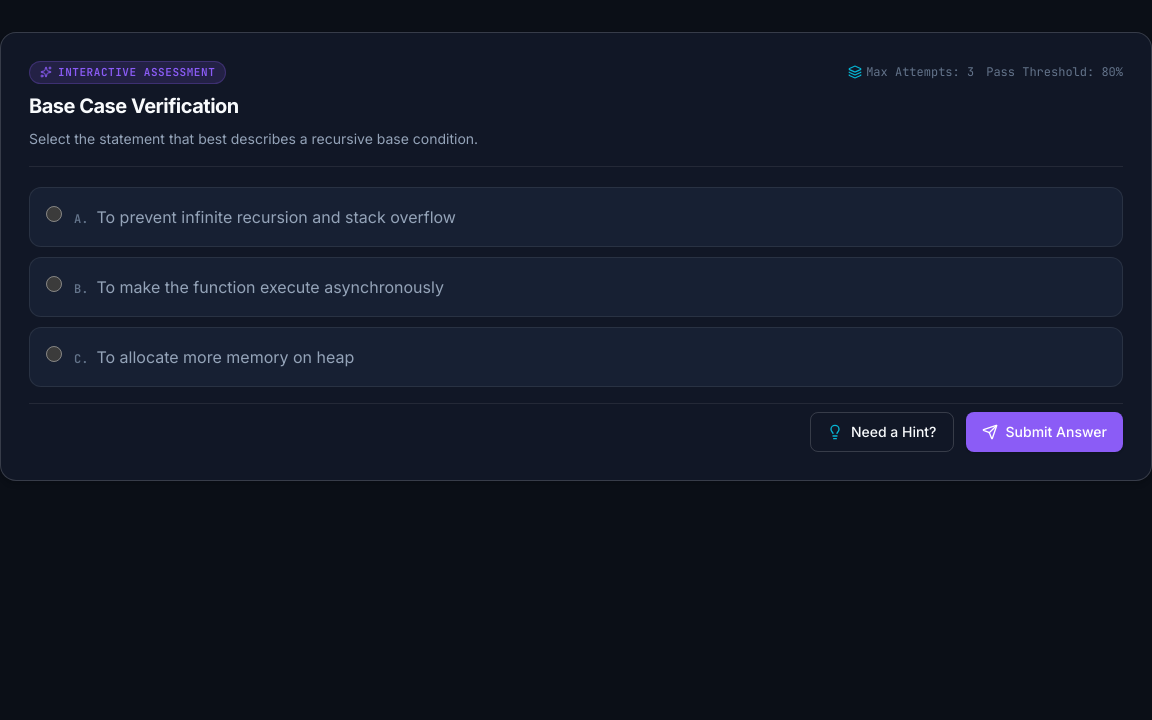
Phase 8 — Progressive Hints in ActivityContainer › displays friendly message when hint rate limit is reached
Click the button with aria-label "Request progressive hint".
click(882, 432)  # box left=810, top=412, right=954, bottom=452
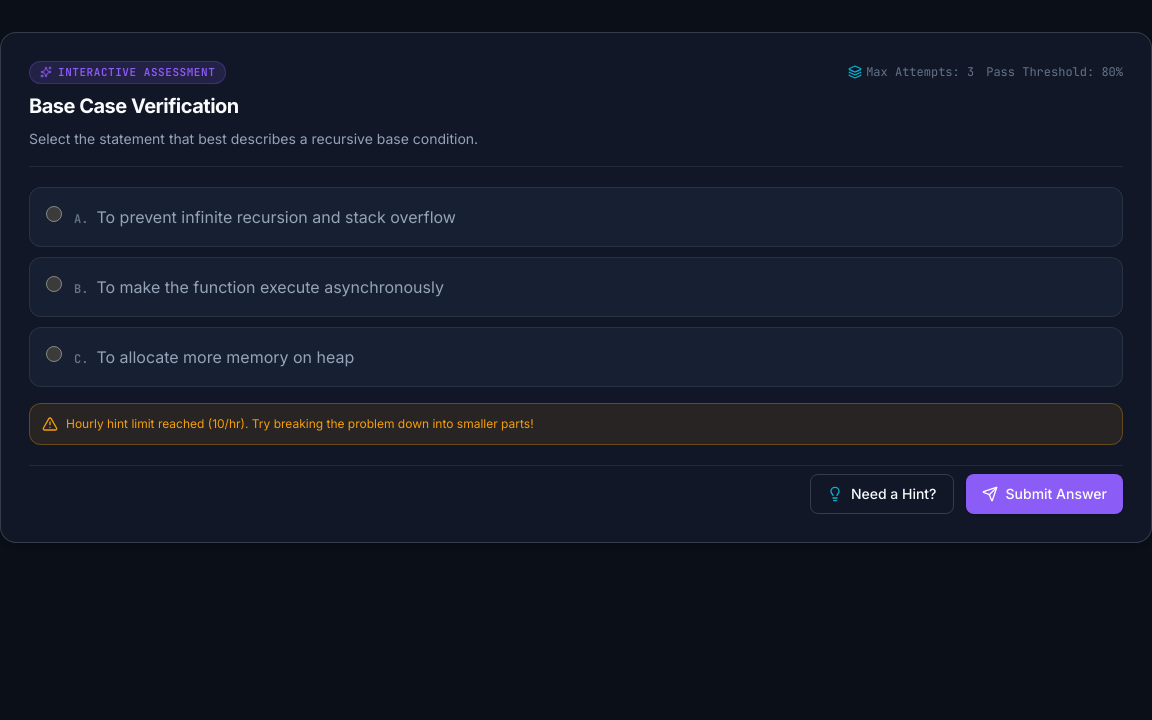
Expected: the text "Hourly hint limit reached (10/hr)" is shown, left=66, top=416, right=534, bottom=431
